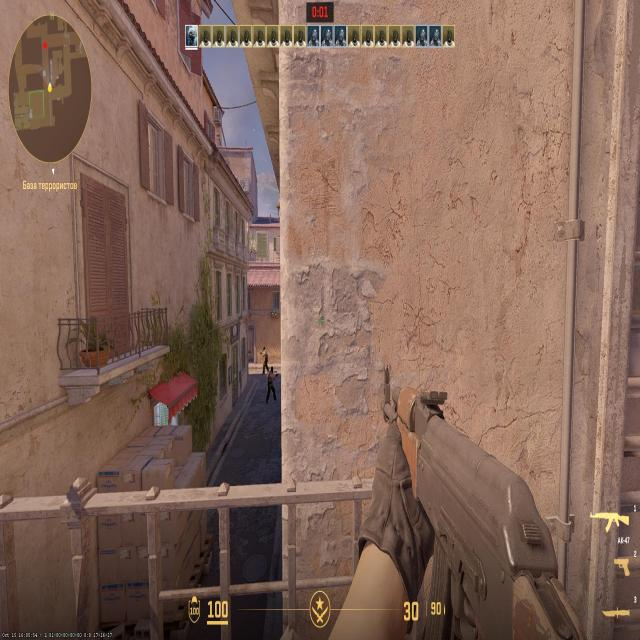T: (270, 368, 276, 402), (262, 346, 267, 372)
T_heat: (271, 368, 273, 374), (263, 348, 265, 354)
